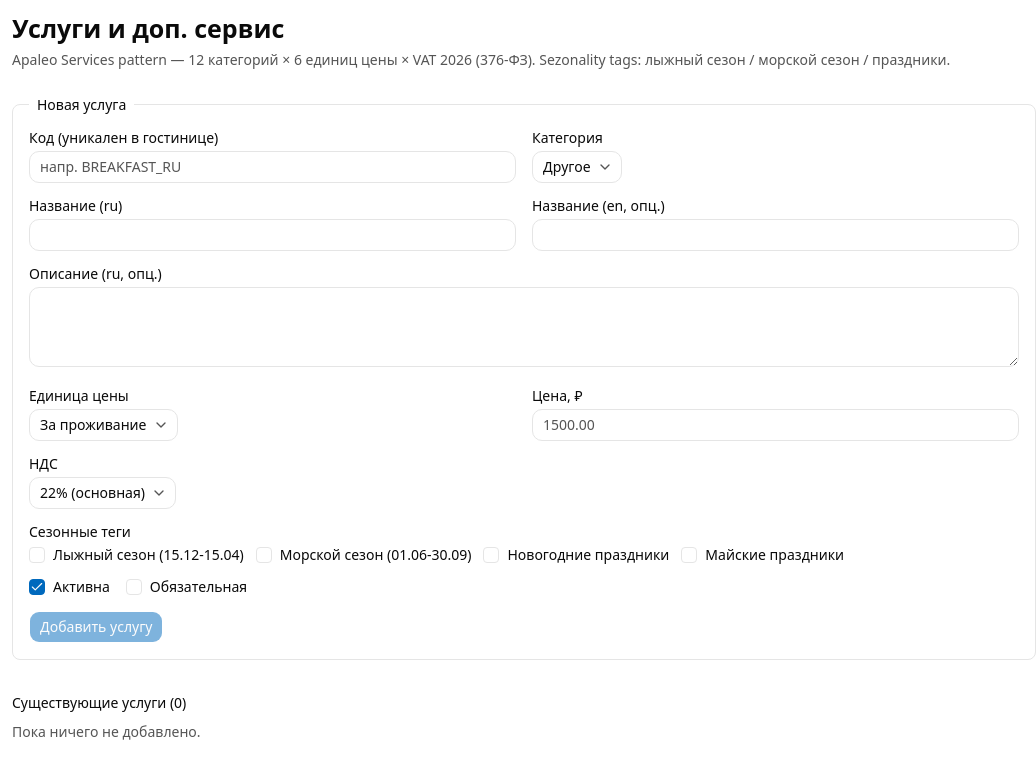
Scenario: <AddonsStep> — enum coverage › [E2] pricing-unit dropdown has 6 options
Click the dropdown named "Единица цены" at {"x": 103, "y": 424}, box [29, 408, 178, 440]
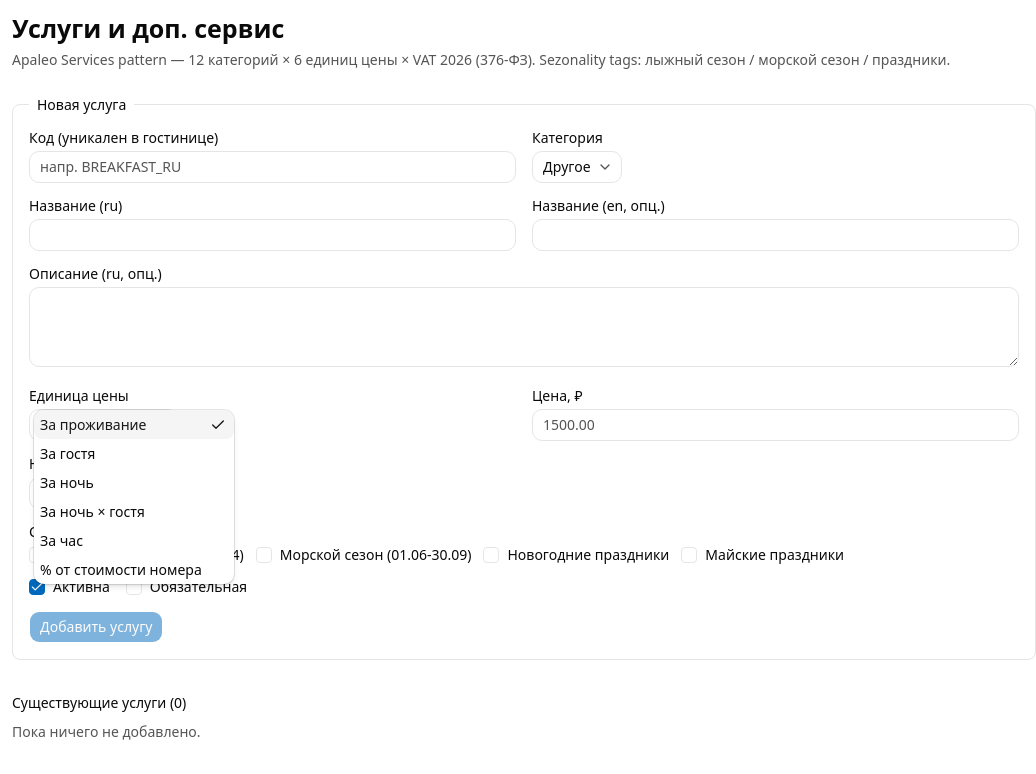
Expected: the number of options is 6, [34, 410, 234, 439]; [40, 444, 95, 463]; [40, 473, 94, 492]; [40, 502, 145, 521]; [40, 531, 83, 550]; [40, 560, 202, 579]
